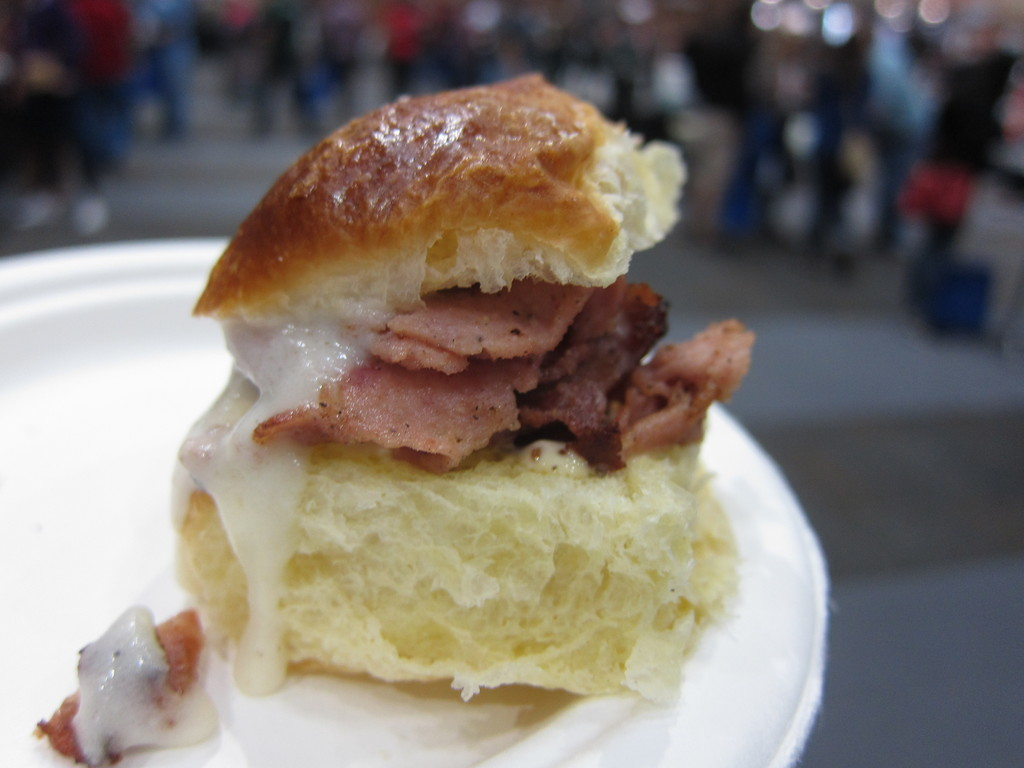sandwich: (163, 61, 762, 709)
